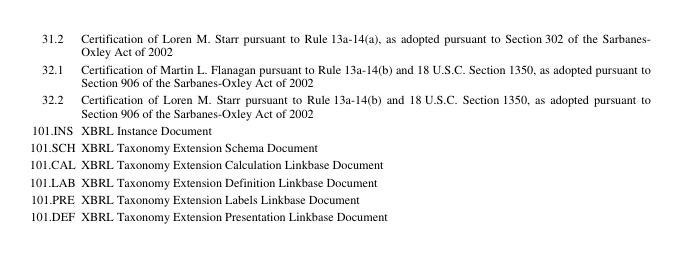table: (28, 28, 649, 223)
table column: (77, 28, 649, 223), (28, 28, 77, 223)
table row: (28, 28, 649, 59), (28, 89, 649, 120), (28, 59, 649, 89), (28, 137, 649, 155), (28, 120, 649, 137), (28, 155, 649, 172), (28, 172, 649, 189), (28, 189, 649, 206), (28, 206, 649, 223)
